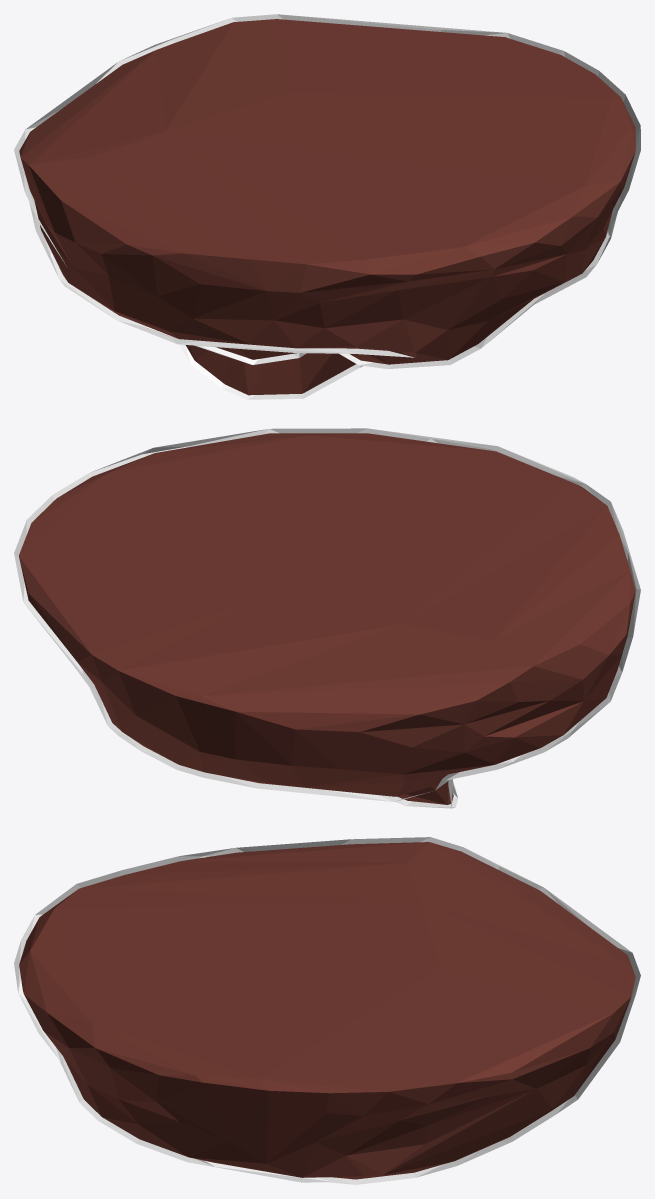
The model's file is landscape.gltf.
3 renders of one model, top to bottom at view 1: azimuth 30°, elevation 25°; view 2: azimuth 150°, elevation 25°; view 3: azimuth 270°, elevation 25°, orthographic. The views are drawn at different scales.
Visible parts, largest first — view 1: Cylinder; view 2: Cylinder; view 3: Cylinder.
Part boxes in pixels (x1,y1,x2,y2): Cylinder: (14,14,640,399); Cylinder: (14,428,640,808); Cylinder: (14,837,640,1184).
Bounding box in the file's own units: 0.8601 × 0.3514 × 0.8647.
